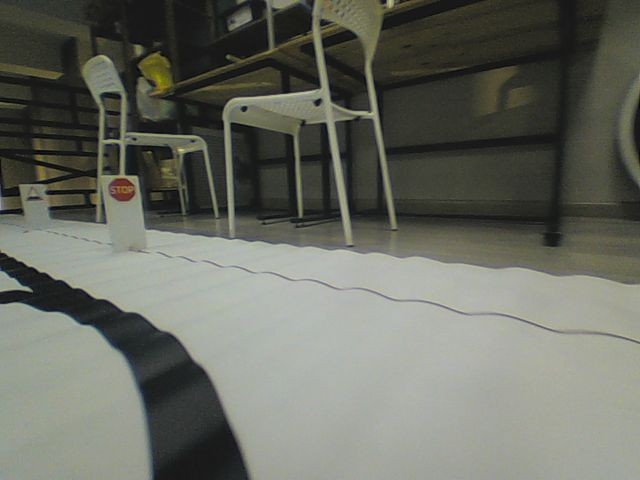Nerov: (25, 185, 43, 202)
Stop: (108, 177, 136, 202)
